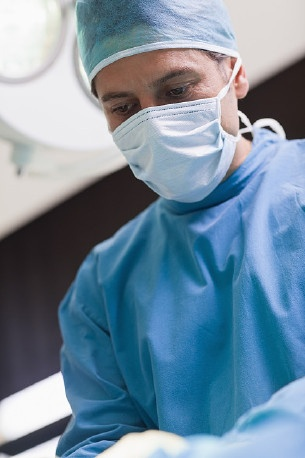Mask: (96, 63, 232, 199)
